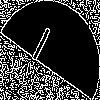I: (25, 25, 54, 72)
